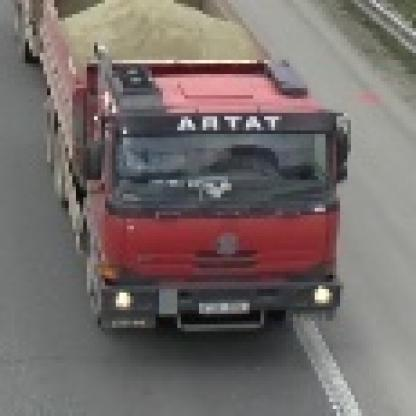truck: (12, 1, 348, 343)
